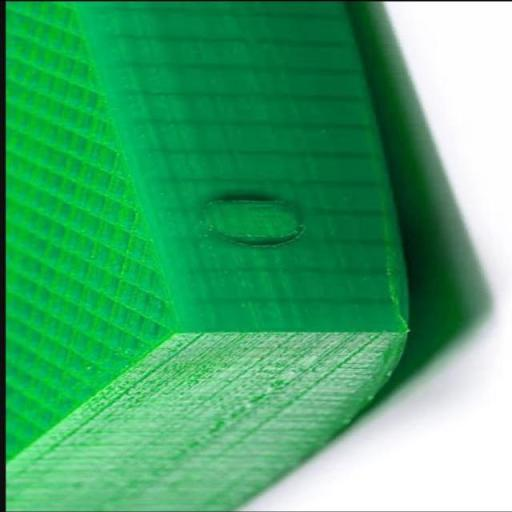cracks: (198, 171, 313, 261)
